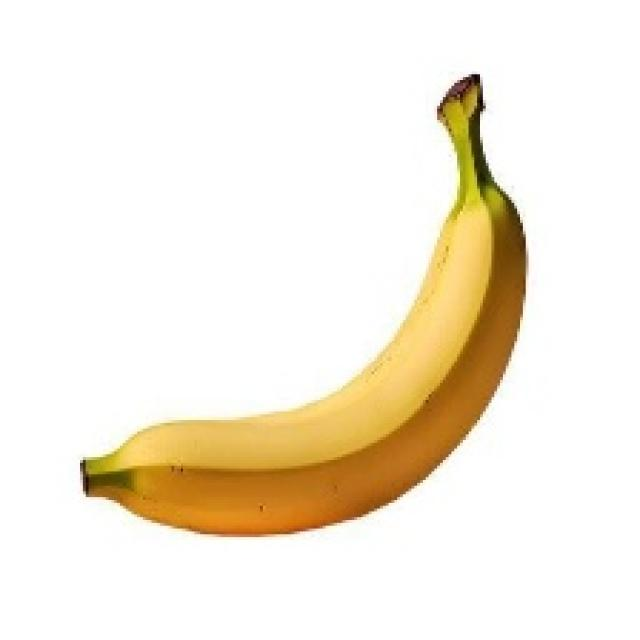Banana: (77, 72, 526, 537)
